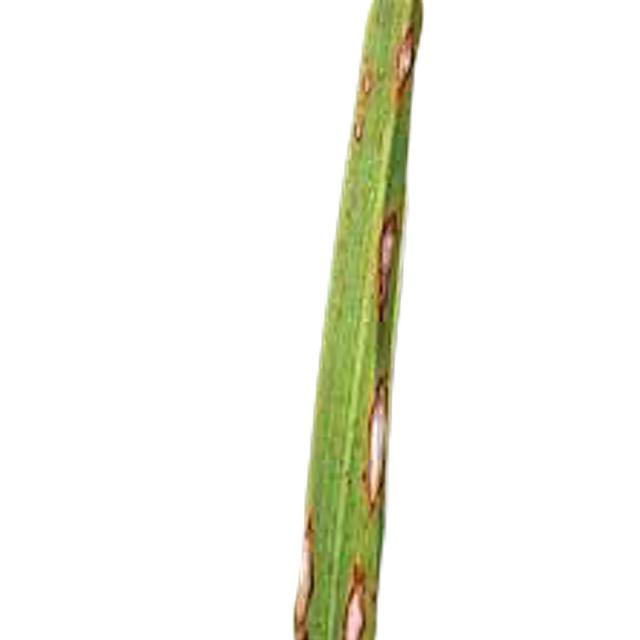Leaf blast: (357, 374, 392, 530), (328, 549, 370, 640), (374, 210, 400, 320), (351, 41, 377, 146), (290, 508, 311, 638), (390, 27, 420, 100)
